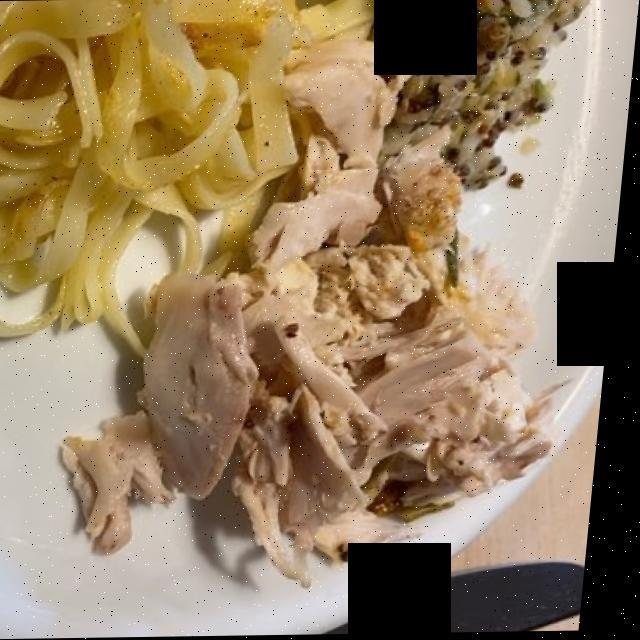chicken: (80, 43, 561, 606)
pasta: (0, 3, 378, 344)
quinoa: (395, 0, 585, 172)
